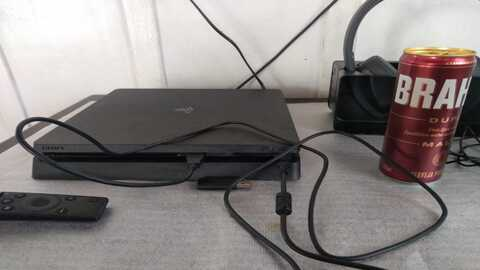duplo_malte: (381, 51, 477, 177)
